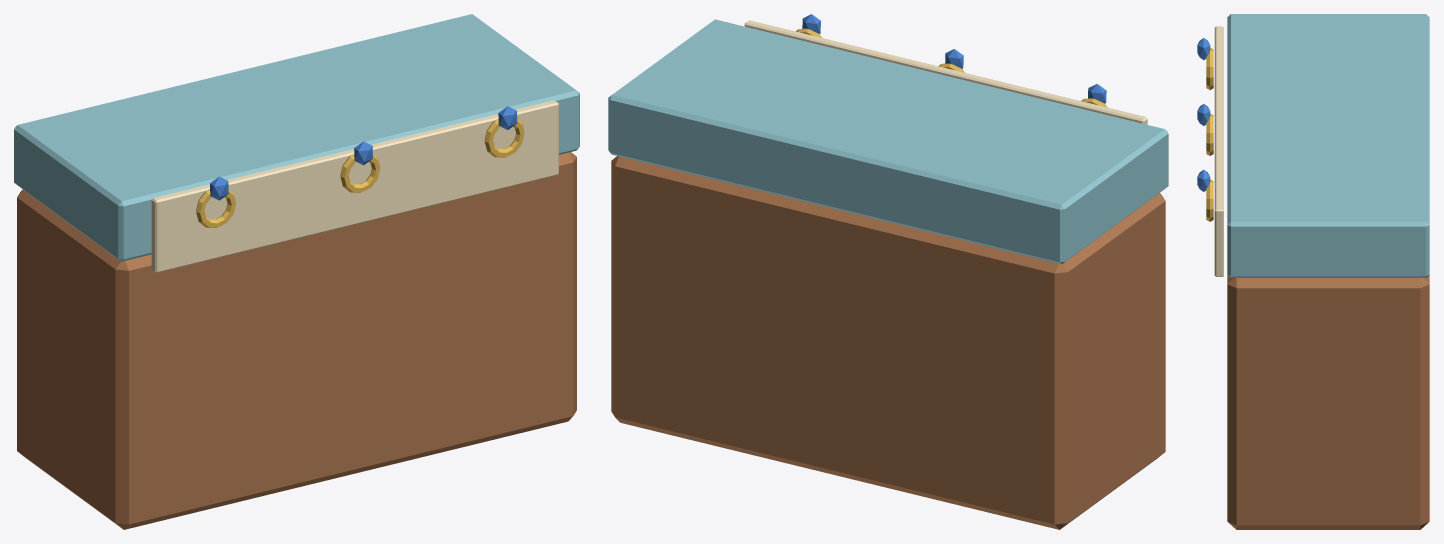
The model's file is Prop_GlassCabinet.fbx.
The picture shows the model from 3 angles, left to right: view 1: azimuth 30°, elevation 25°; view 2: azimuth 150°, elevation 25°; view 3: azimuth 270°, elevation 25°; orthographic projection. The views are drawn at different scales.
Visible parts, largest first — view 1: CabinetBase.001, DisplayTop.001, DisplayPad.001, JewelryRing.003, JewelryRing.005, JewelryRing.004; view 2: CabinetBase.001, DisplayTop.001, DisplayPad.001; view 3: DisplayTop.001, CabinetBase.001, DisplayPad.001, JewelryRing.004, JewelryRing.005, JewelryRing.003.
Part boxes in pixels (bbox=[...]): CabinetBase.001: bbox=[17, 152, 576, 529]; DisplayTop.001: bbox=[14, 14, 579, 261]; DisplayPad.001: bbox=[151, 100, 558, 272]; JewelryRing.003: bbox=[196, 189, 235, 227]; JewelryRing.005: bbox=[484, 119, 524, 157]; JewelryRing.004: bbox=[340, 154, 380, 192]; CabinetBase.001: bbox=[611, 156, 1165, 529]; DisplayTop.001: bbox=[608, 19, 1168, 264]; DisplayPad.001: bbox=[744, 20, 1147, 124]; DisplayTop.001: bbox=[1227, 14, 1429, 277]; CabinetBase.001: bbox=[1227, 275, 1429, 529]; DisplayPad.001: bbox=[1214, 26, 1223, 276]; JewelryRing.004: bbox=[1206, 113, 1213, 155]; JewelryRing.005: bbox=[1206, 179, 1213, 221]; JewelryRing.003: bbox=[1206, 48, 1213, 89].
Bounding box in the file's own units: 1.6 × 1.15 × 0.7463.
